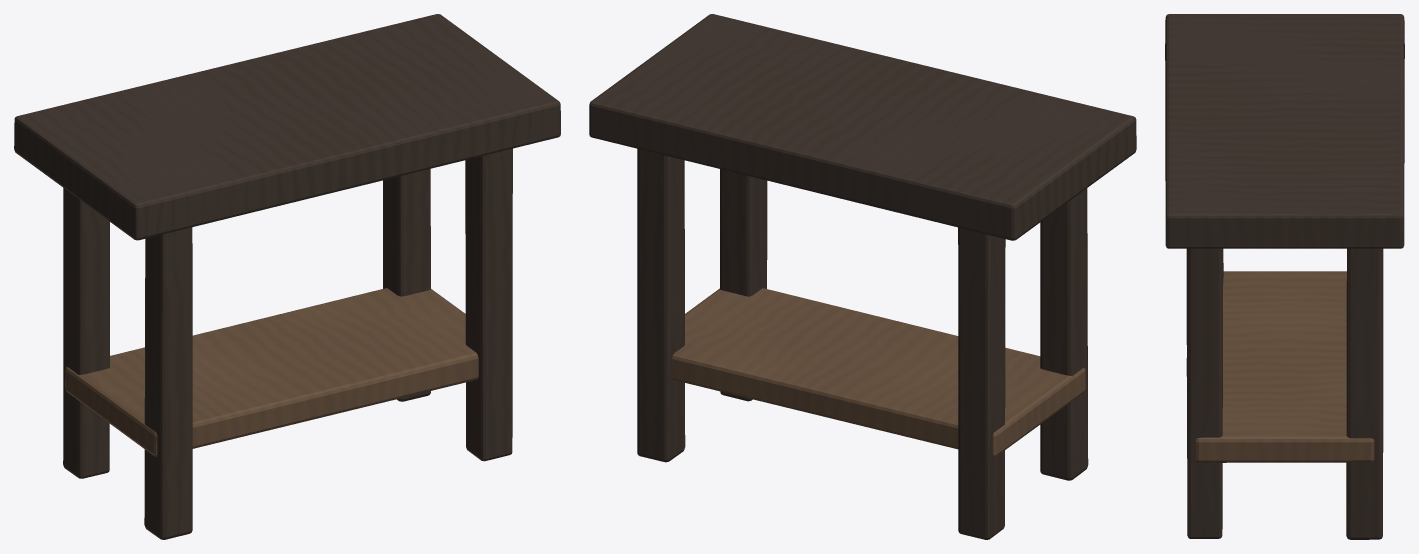
The model's file is AR_Altar_1m.glb.
3 views of the same model, side by side, from view 1: azimuth 30°, elevation 25°; view 2: azimuth 150°, elevation 25°; view 3: azimuth 270°, elevation 25° (orthographic). The views are drawn at different scales.
Parts seen in each view (by area): view 1: AR_Altar_1m; view 2: AR_Altar_1m; view 3: AR_Altar_1m.
Part boxes in pixels (<box>): AR_Altar_1m: <box>14,14,560,539</box>; AR_Altar_1m: <box>589,14,1136,539</box>; AR_Altar_1m: <box>1165,14,1404,539</box>.
Size of the model in its own units: 1.2 by 0.9504 by 0.6.
Materials: 2 (2 with a texture image).
